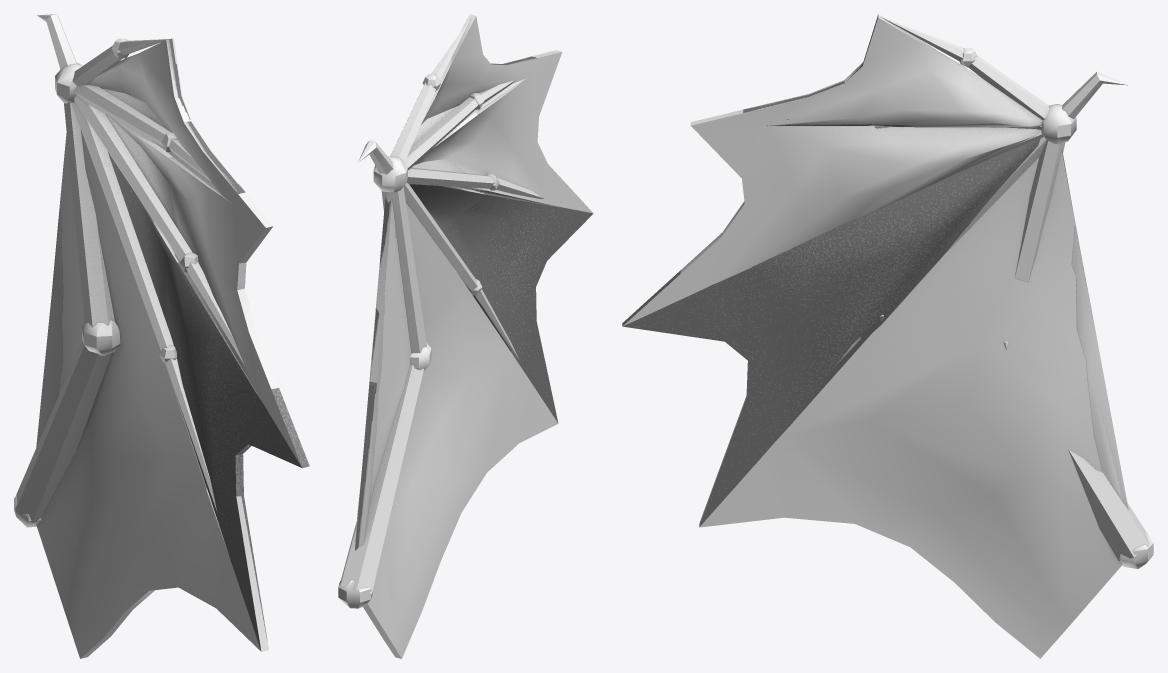
Rendered from demon_wing.fbx.
3 views of the same model, side by side, from view 1: azimuth 30°, elevation 25°; view 2: azimuth 150°, elevation 25°; view 3: azimuth 270°, elevation 25° (orthographic). The views are drawn at different scales.
Parts seen in each view (by area): view 1: demon_wing; view 2: demon_wing; view 3: demon_wing.
Boxes of the visible parts, <box> form: demon_wing: <box>14,14,309,658</box>; demon_wing: <box>338,14,593,658</box>; demon_wing: <box>622,14,1153,658</box>.
Bounding box in the file's own units: 21.41 × 340 × 255.
1 material, 1 textured.
